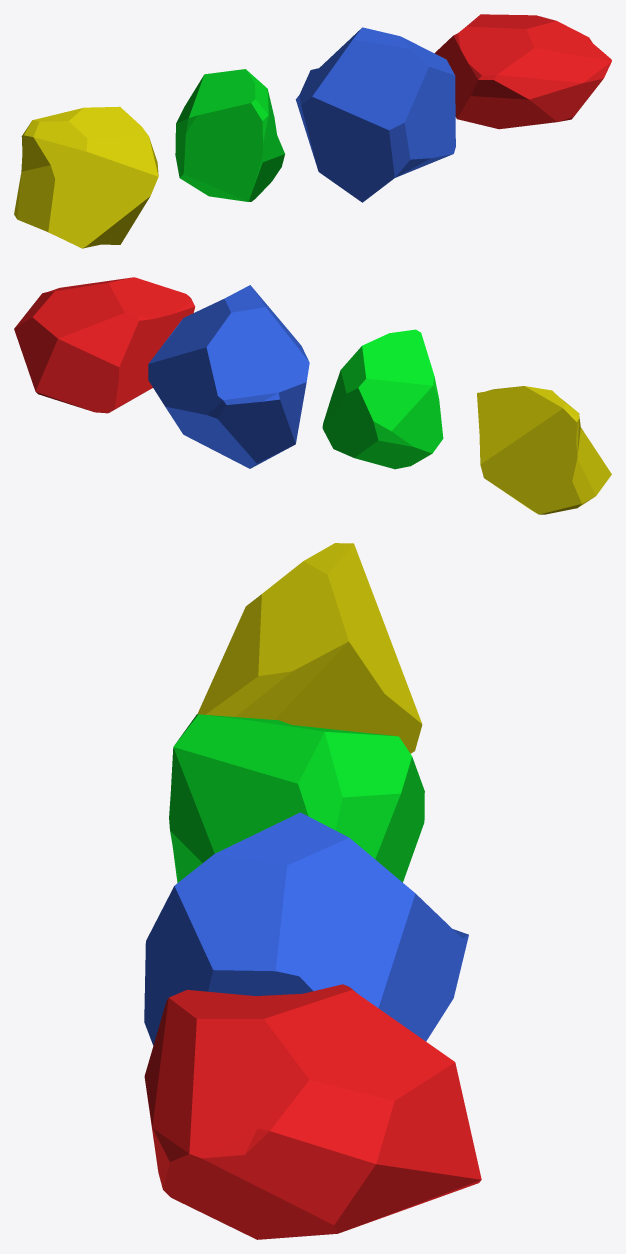
Rendered from GemStones.fbx.
The picture shows the model from 3 angles, top to bottom: view 1: azimuth 30°, elevation 25°; view 2: azimuth 150°, elevation 25°; view 3: azimuth 270°, elevation 25°; orthographic projection. The views are drawn at different scales.
Visible parts, largest first — view 1: LowPolyRock.002, LowPolyRock.003, LowPolyRock.004, LowPolyRock.001; view 2: LowPolyRock.002, LowPolyRock.004, LowPolyRock.003, LowPolyRock.001; view 3: LowPolyRock.004, LowPolyRock.002, LowPolyRock.001, LowPolyRock.003.
Boxes of the visible parts, x1,y1,x2,y2 form: LowPolyRock.002: (295,27,455,202); LowPolyRock.003: (14,106,158,248); LowPolyRock.004: (434,14,611,129); LowPolyRock.001: (175,69,284,201); LowPolyRock.002: (148,285,309,468); LowPolyRock.004: (14,277,195,413); LowPolyRock.003: (477,386,611,514); LowPolyRock.001: (322,329,443,469); LowPolyRock.004: (144,984,481,1239); LowPolyRock.002: (144,812,468,1045); LowPolyRock.001: (169,714,424,882); LowPolyRock.003: (197,543,422,753).
Size of the model in its own units: 634 by 172 by 164.
